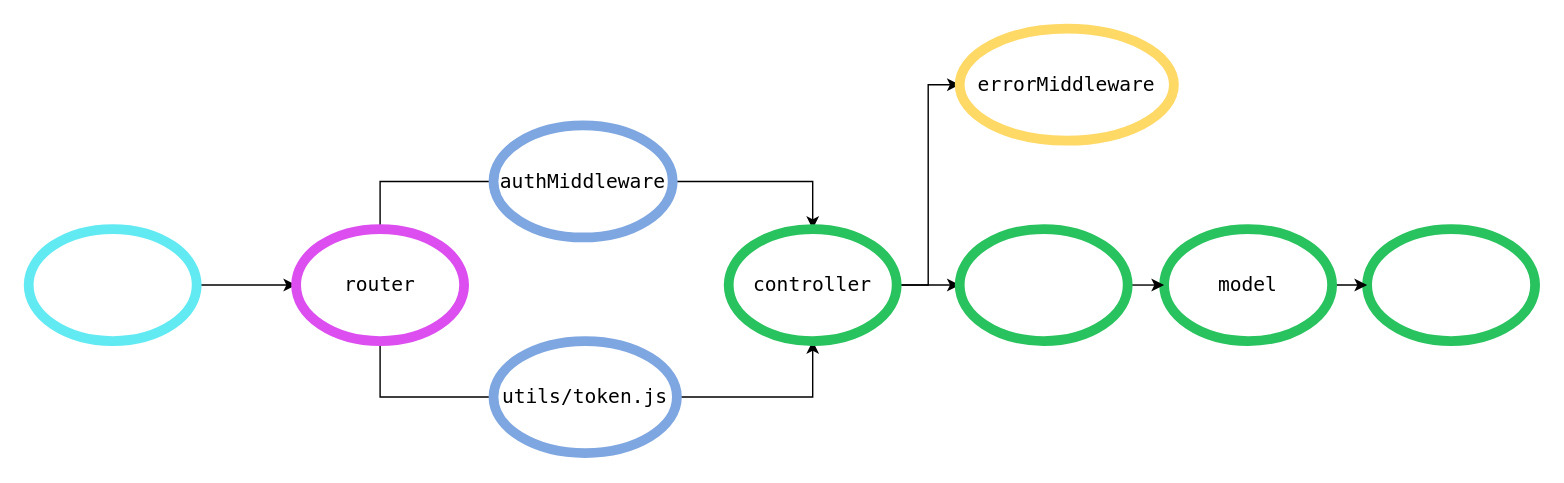
This 1564x483 diagram has some shape labels left out. The shapes that lost their labels are listed below. From the top down, each one's centre as x and y in pixels, then its label:
the point at 112,284: web.js
the point at 1043,284: service
the point at 1450,284: DB
